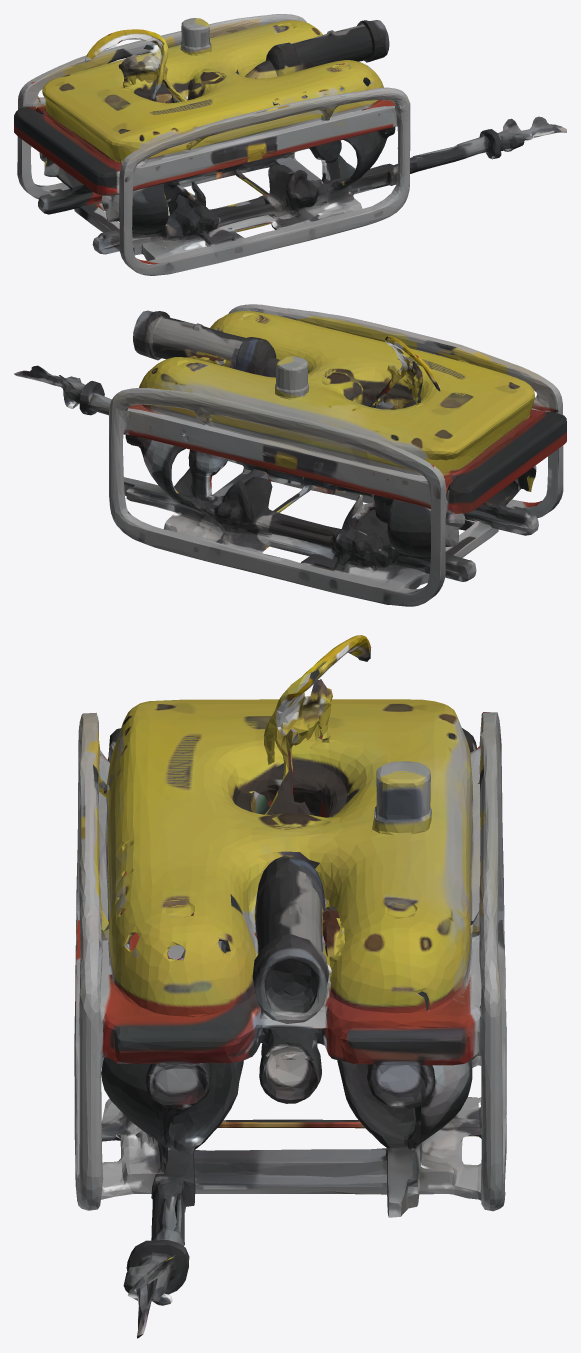
File: ROV_Seas.obj
The picture shows the model from 3 angles, top to bottom: view 1: azimuth 30°, elevation 25°; view 2: azimuth 150°, elevation 25°; view 3: azimuth 270°, elevation 25°; orthographic projection. The views are drawn at different scales.
Parts seen in each view (by area): view 1: ROV_Seas; view 2: ROV_Seas; view 3: ROV_Seas.
Part boxes in pixels (<box>): ROV_Seas: <box>14,14,566,275</box>; ROV_Seas: <box>14,304,566,606</box>; ROV_Seas: <box>74,635,506,1338</box>.
Size of the model in its own units: 2.61 by 1 by 1.03.
1 material, 1 textured.
